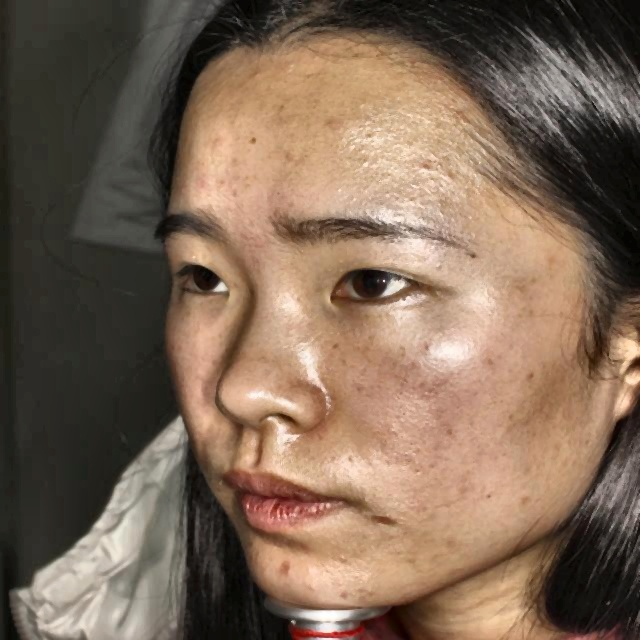comedone: (361, 501, 393, 531), (274, 554, 290, 583)
